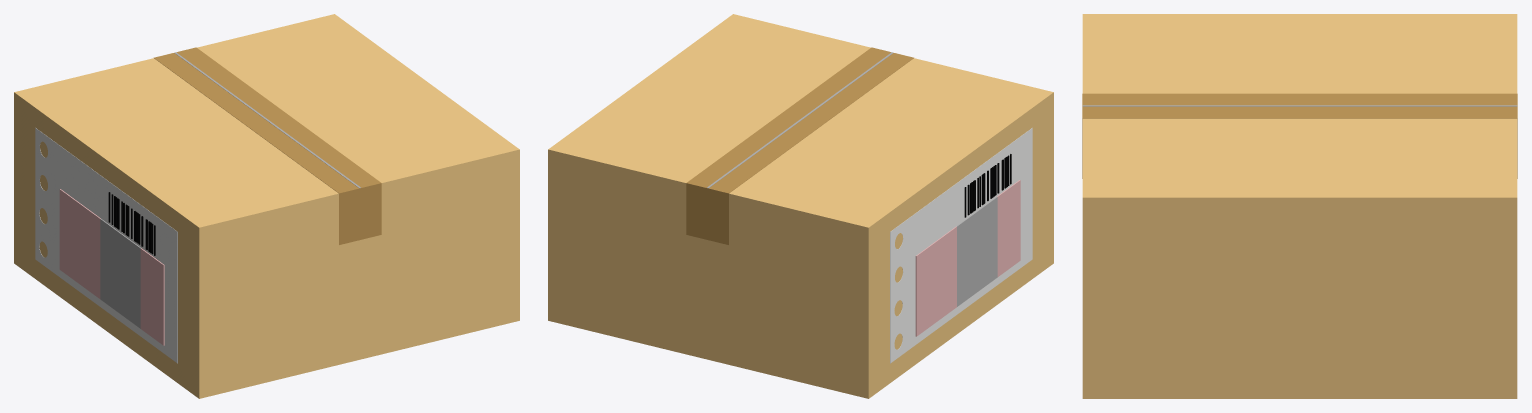
The picture shows the model from 3 angles, left to right: view 1: azimuth 30°, elevation 25°; view 2: azimuth 150°, elevation 25°; view 3: azimuth 270°, elevation 25°; orthographic projection. The views are drawn at different scales.
Visible parts, largest first — view 1: xiangzi, tape, white, pink, GREY, black; view 2: xiangzi, tape, white, pink, GREY, black; view 3: xiangzi, tape, GREY.
Part boxes in pixels (<box>): xiangzi: <box>14,14,519,398</box>; tape: <box>154,47,381,244</box>; white: <box>35,128,177,363</box>; pink: <box>59,189,164,345</box>; GREY: <box>100,52,360,328</box>; black: <box>108,192,155,255</box>; xiangzi: <box>548,14,1053,398</box>; tape: <box>686,47,913,244</box>; white: <box>890,128,1032,363</box>; pink: <box>915,180,1020,336</box>; GREY: <box>707,52,997,306</box>; black: <box>964,154,1011,217</box>; xiangzi: <box>1082,14,1517,398</box>; tape: <box>1082,93,1517,178</box>; GREY: <box>1082,105,1517,106</box>.
Size of the model in its own units: 2950 by 1504 by 2944.
